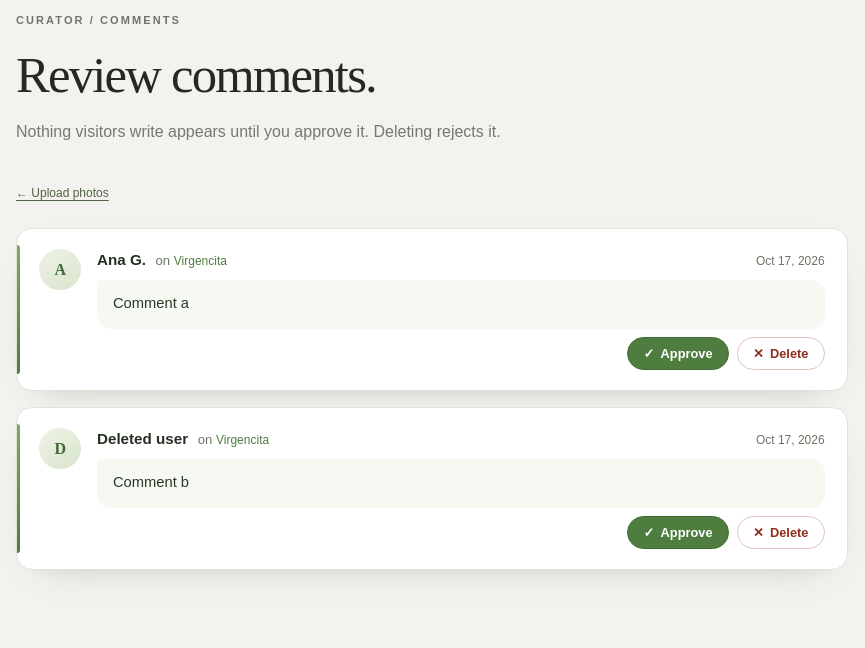
Test: CommentModeration › keeps a comment whose action failed and says why
Expected: the text "Comment a" is shown, [97,280,825,329]
Click the 1st button "✓ Approve": coordinates (678, 353) [627,337,729,370]
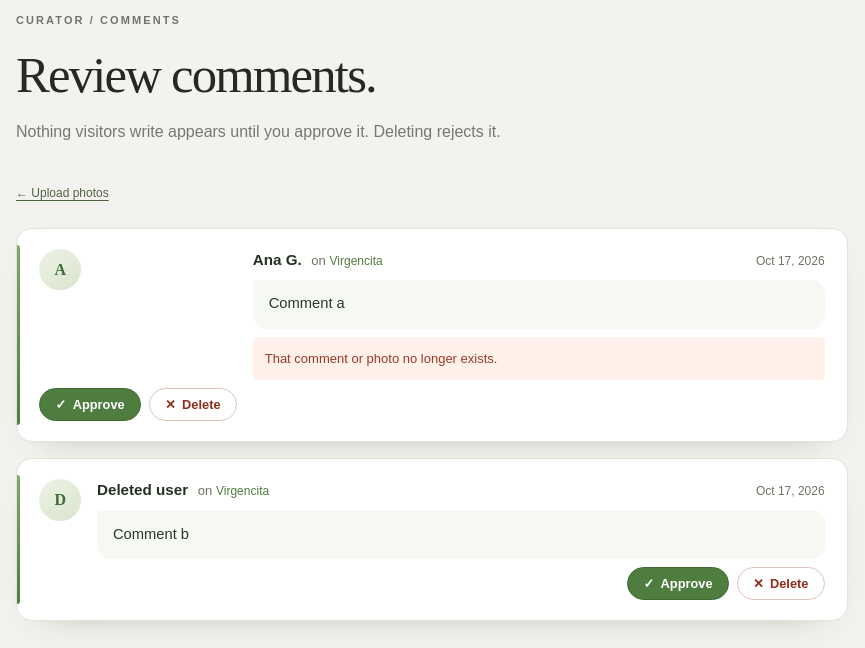
Expected: the text "Comment a" is shown, [253,280,825,329]
Expected: the message shows "no longer exists", [265,351,497,366]
